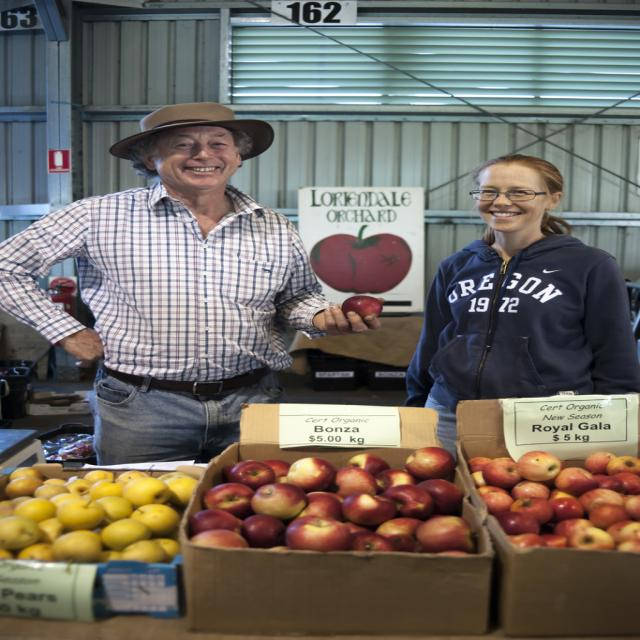Healty Apple: (188, 445, 474, 555), (0, 466, 198, 562), (469, 448, 637, 552), (290, 512, 358, 558)
